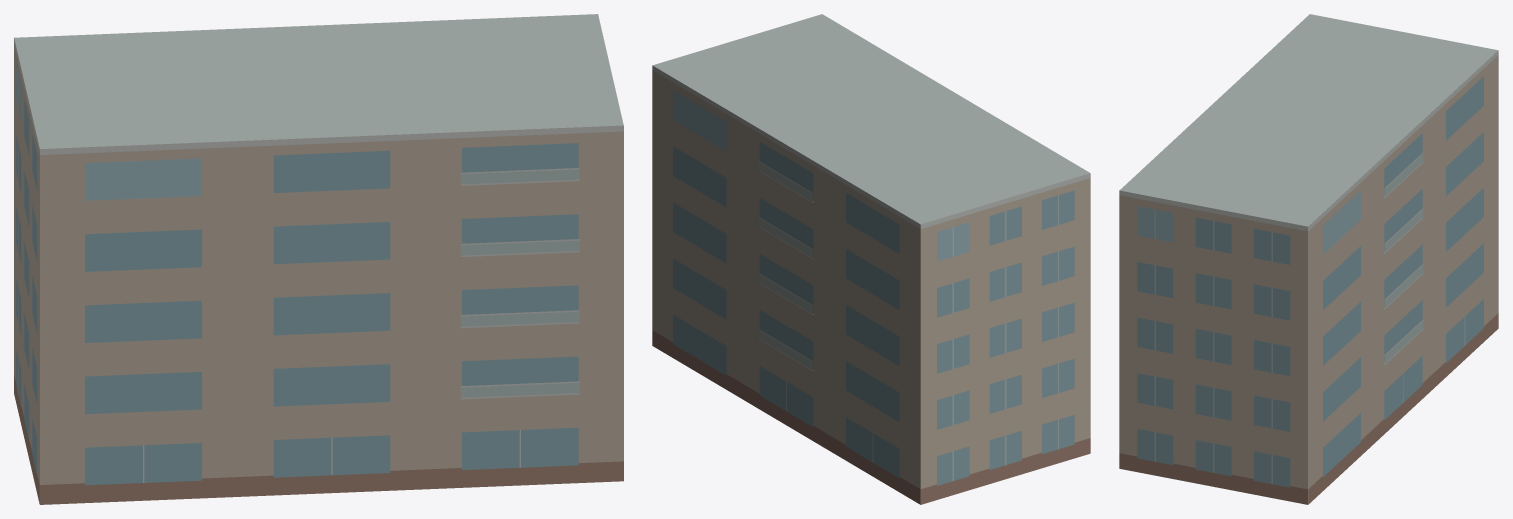
File: survey-upis-32995868.glb
The picture shows the model from 3 angles, left to right: view 1: azimuth 30°, elevation 25°; view 2: azimuth 150°, elevation 25°; view 3: azimuth 270°, elevation 25°; orthographic projection. The views are drawn at different scales.
Parts seen in each view (by area): view 1: survey-upis-32995868.tmp; view 2: survey-upis-32995868.tmp; view 3: survey-upis-32995868.tmp.
Boxes of the visible parts, x1=… form: survey-upis-32995868.tmp: x1=14, y1=14, x2=623, y2=504; survey-upis-32995868.tmp: x1=652, y1=14, x2=1090, y2=504; survey-upis-32995868.tmp: x1=1119, y1=14, x2=1498, y2=504.
Bounding box in the file's own units: 23.69 × 14.45 × 17.85.
